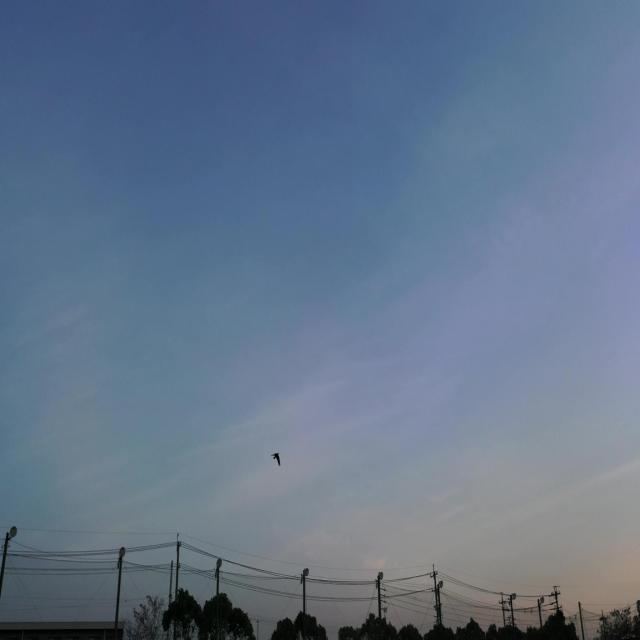Birds: (268, 445, 284, 467)
